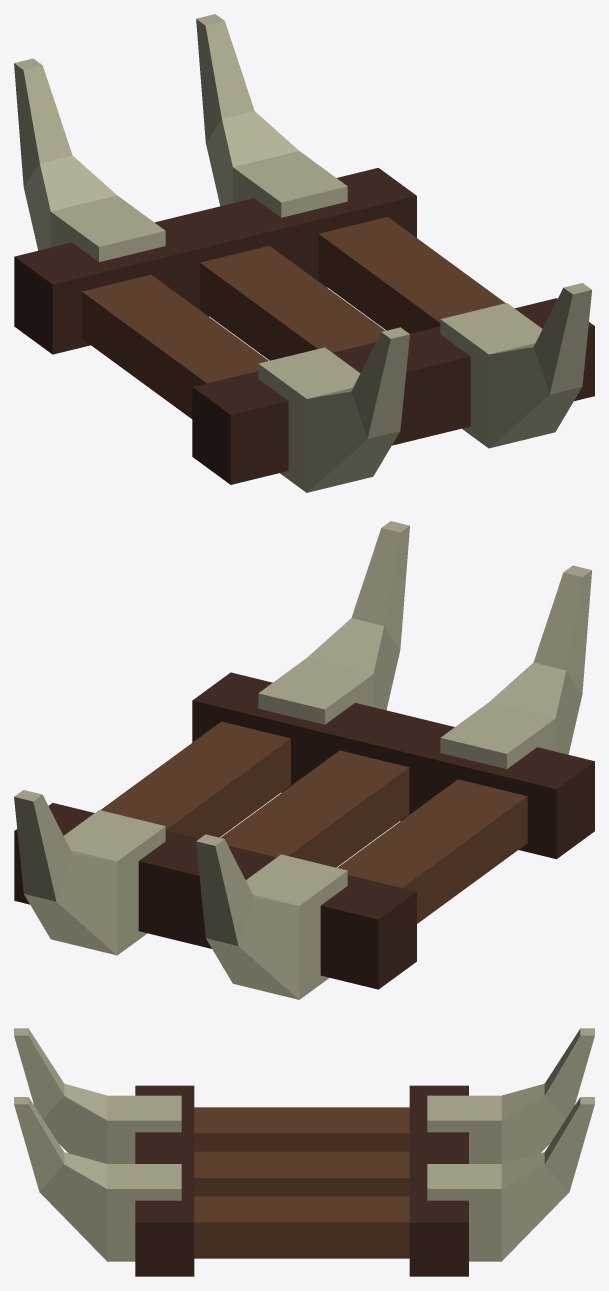
File: Model_Horde_Bridge.fbx
The picture shows the model from 3 angles, top to bottom: view 1: azimuth 30°, elevation 25°; view 2: azimuth 150°, elevation 25°; view 3: azimuth 270°, elevation 25°; orthographic projection. The views are drawn at different scales.
Parts seen in each view (by area): view 1: Model_Frost_Bridge; view 2: Model_Frost_Bridge; view 3: Model_Frost_Bridge.
Boxes of the visible parts, x1,y1,x2,y2 form: Model_Frost_Bridge: (14, 14, 594, 492); Model_Frost_Bridge: (14, 521, 594, 999); Model_Frost_Bridge: (14, 1028, 594, 1276).
Bounding box in the file's own units: 200 × 101 × 358.
Materials: 1 (1 with a texture image).
